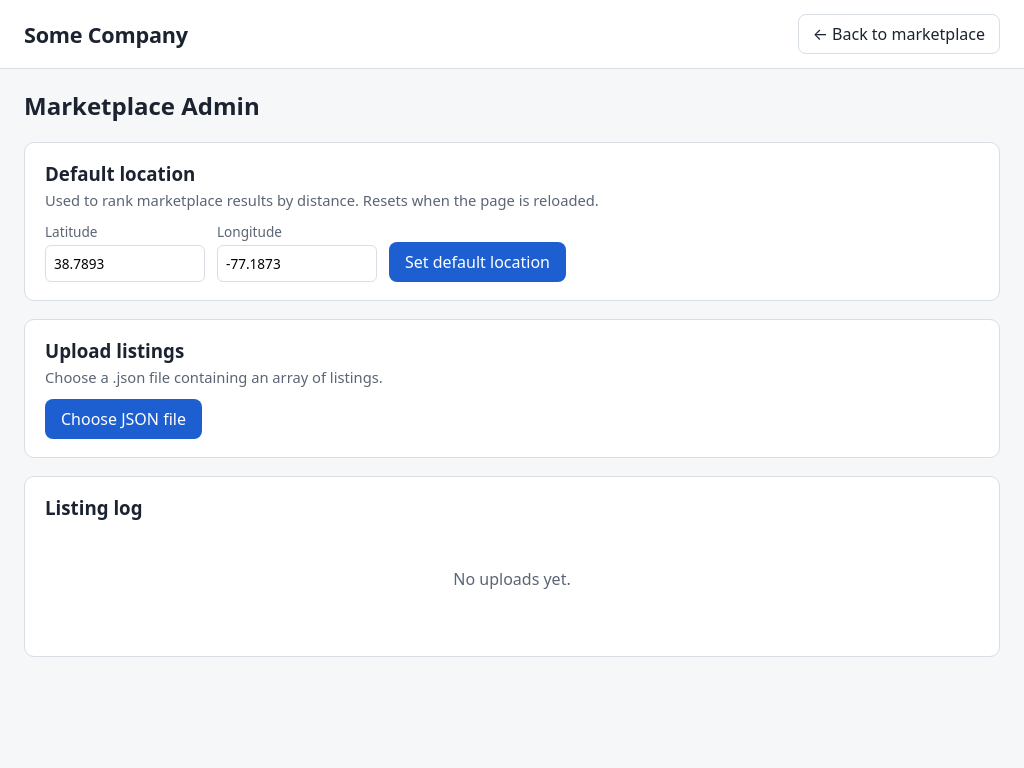
AdminPage › default location › is pre-filled and validated
Expected: the field labelled "Longitude" holds "-77.1873", top-left (217, 245), bottom-right (377, 282)
Replace the text in the field labelled "Latitude" with "91" at (125, 263), box top-left (45, 245), bottom-right (205, 282)
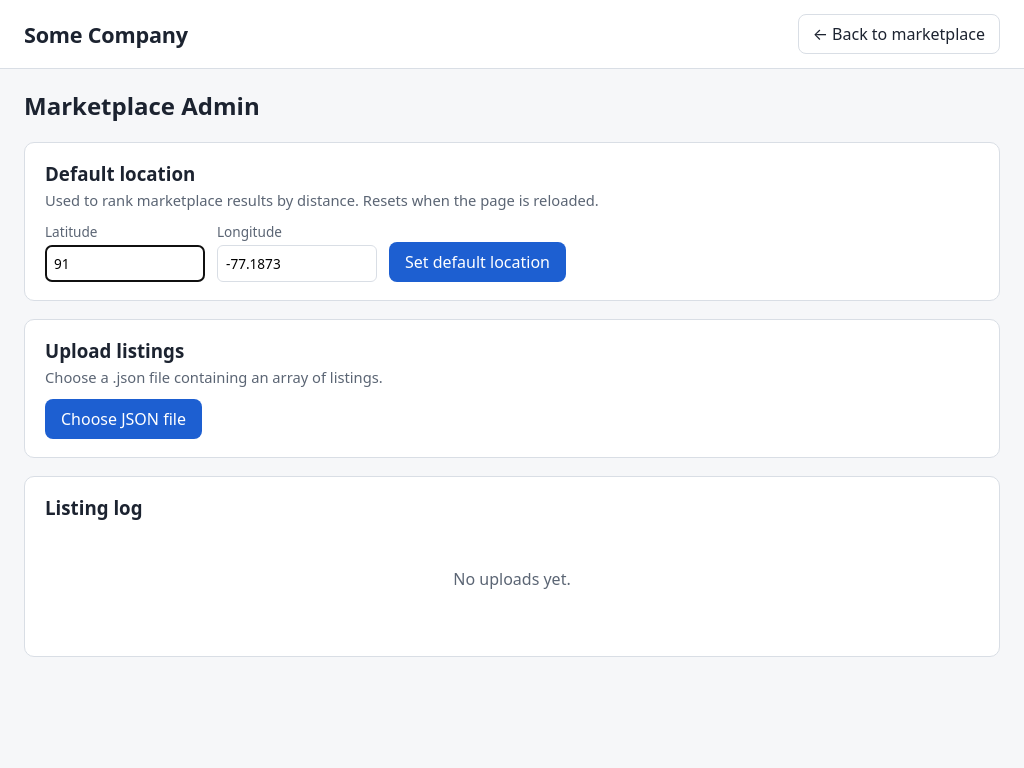
Replace the text in the field labelled "Longitude" with "abc" at (297, 263), box top-left (217, 245), bottom-right (377, 282)
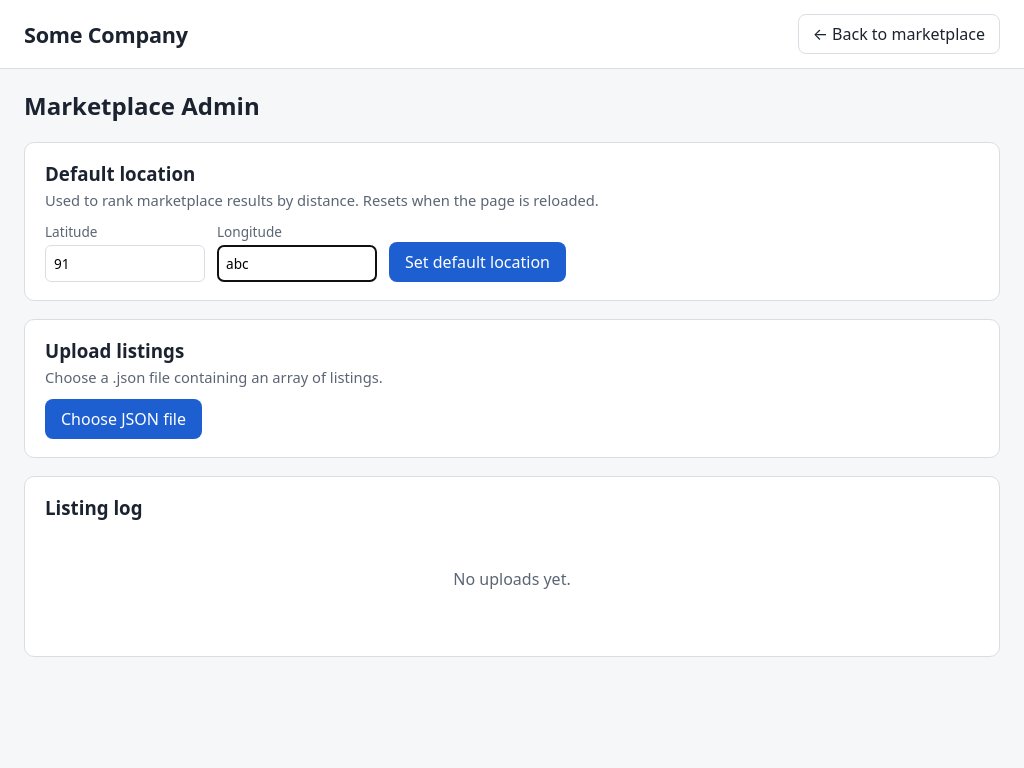
Click the button "Set default location".
click(478, 262)  # box top-left (389, 242), bottom-right (566, 282)
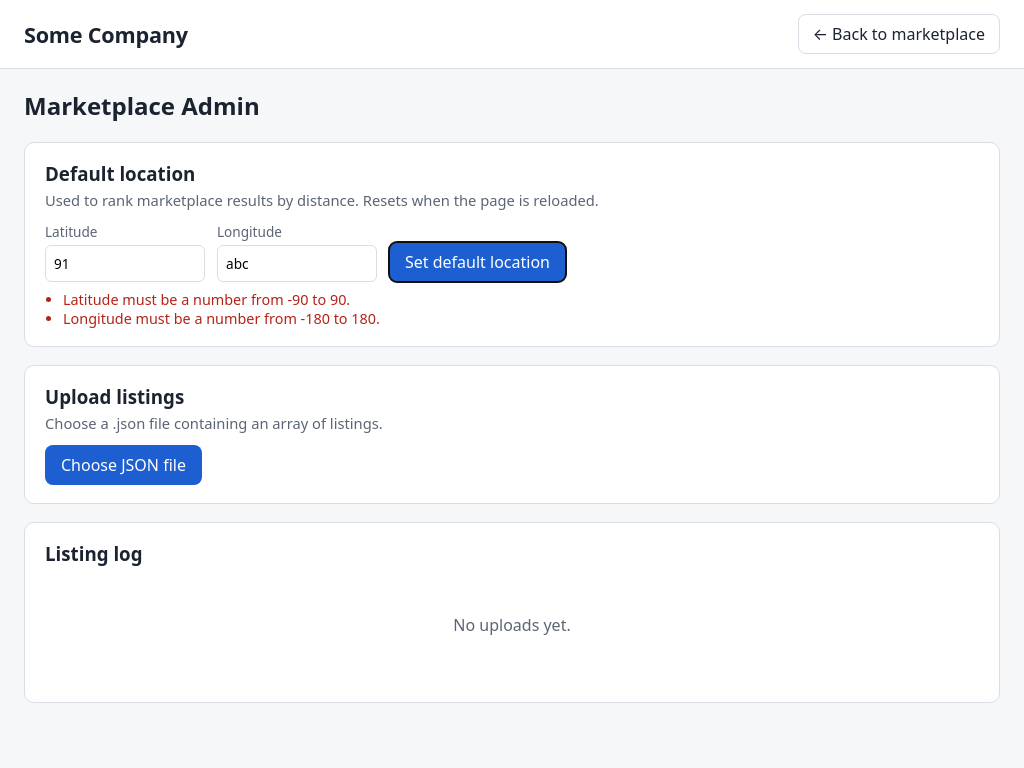
Expected: the message shows "Latitude must be a number from -90 to 90.", top-left (63, 290), bottom-right (350, 309)
Expected: the message shows "Longitude must be a number from -180 to 180.", top-left (63, 309), bottom-right (380, 328)
